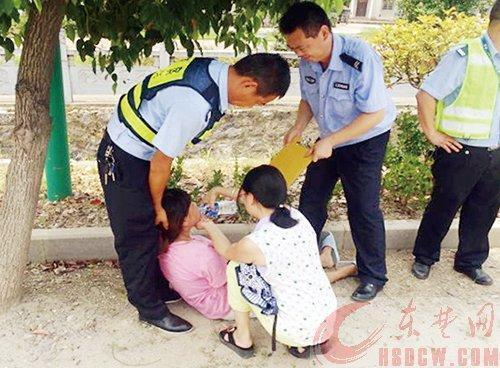Fall-Detected: (145, 183, 257, 328)
